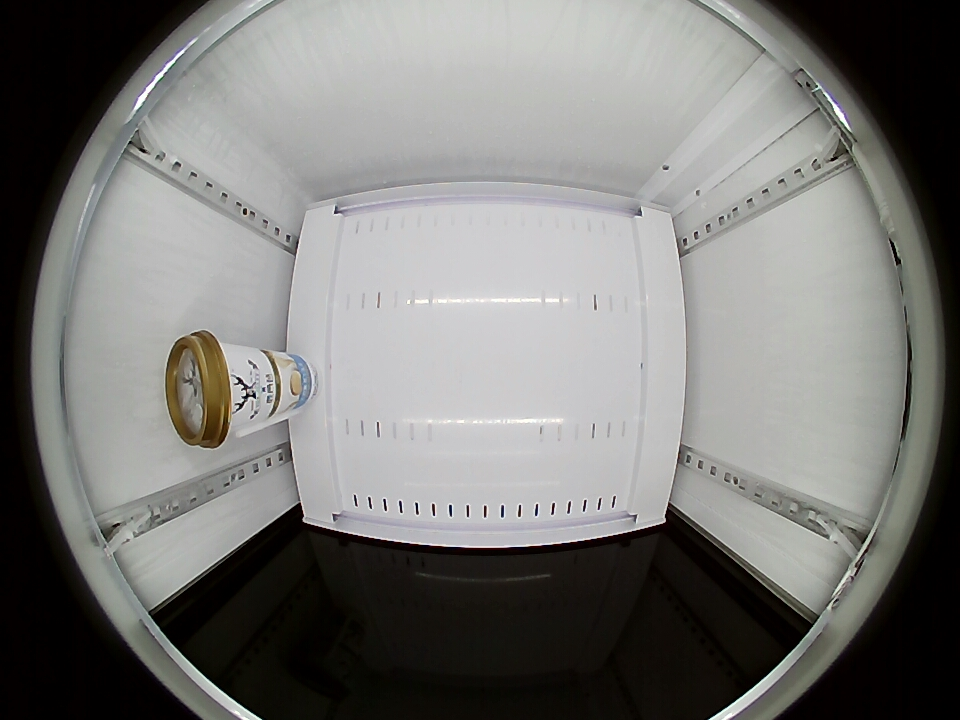lujiaoxiang: (165, 330, 244, 449)
